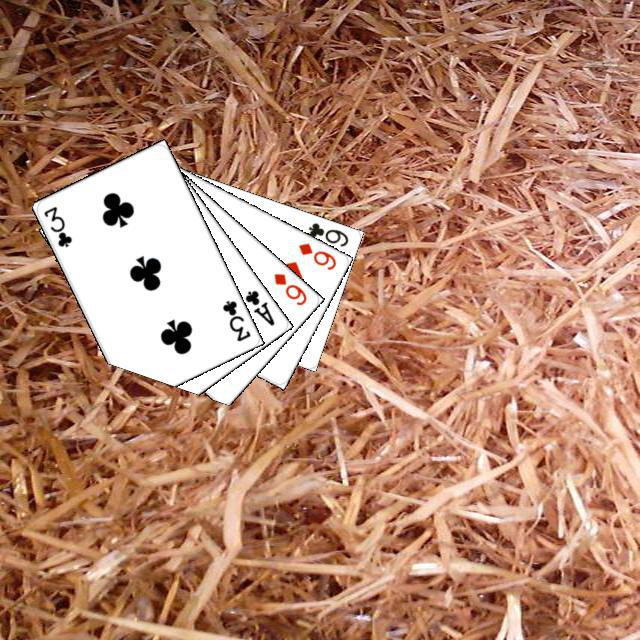3c: (217, 295, 252, 343), (39, 201, 74, 249)
6c: (303, 218, 350, 248)
6d: (293, 238, 338, 272), (269, 268, 308, 307)
Ac: (240, 285, 276, 328)
